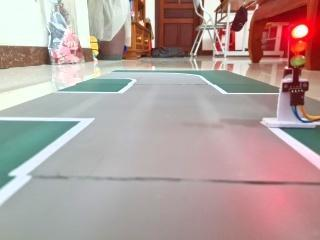red: (275, 17, 313, 90)
